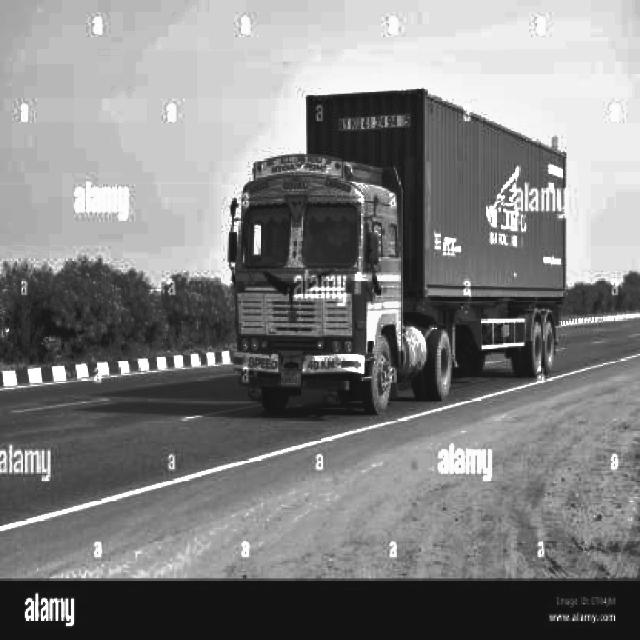HCV: (209, 108, 583, 408)
